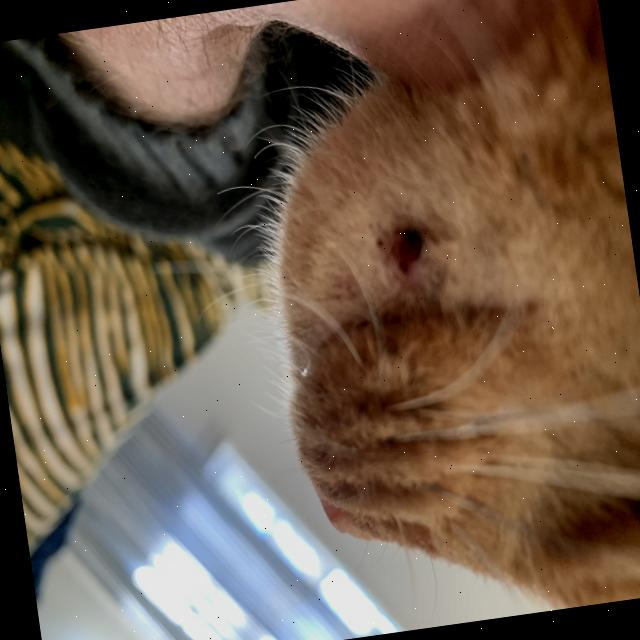cat-acne: (344, 187, 458, 297)
